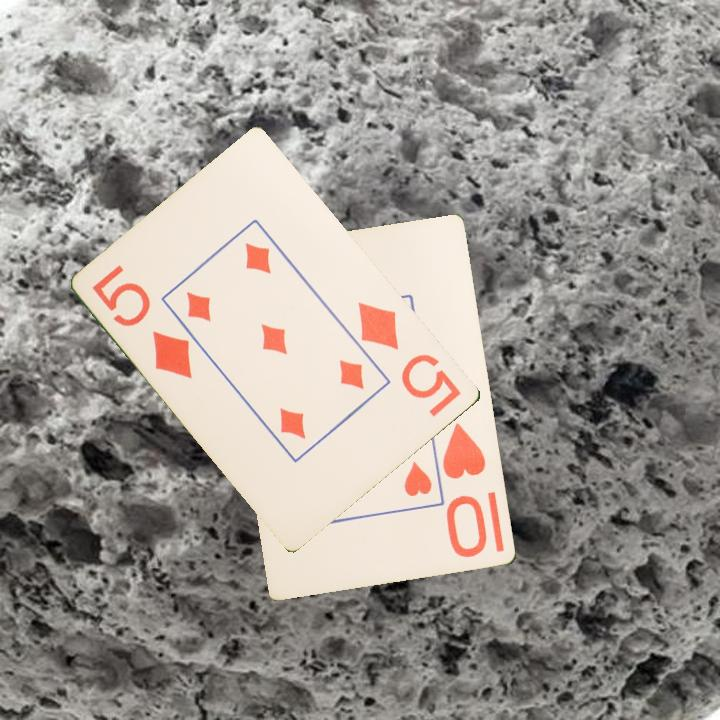10h: (439, 419, 491, 561)
5d: (354, 298, 465, 420), (89, 261, 197, 382)
